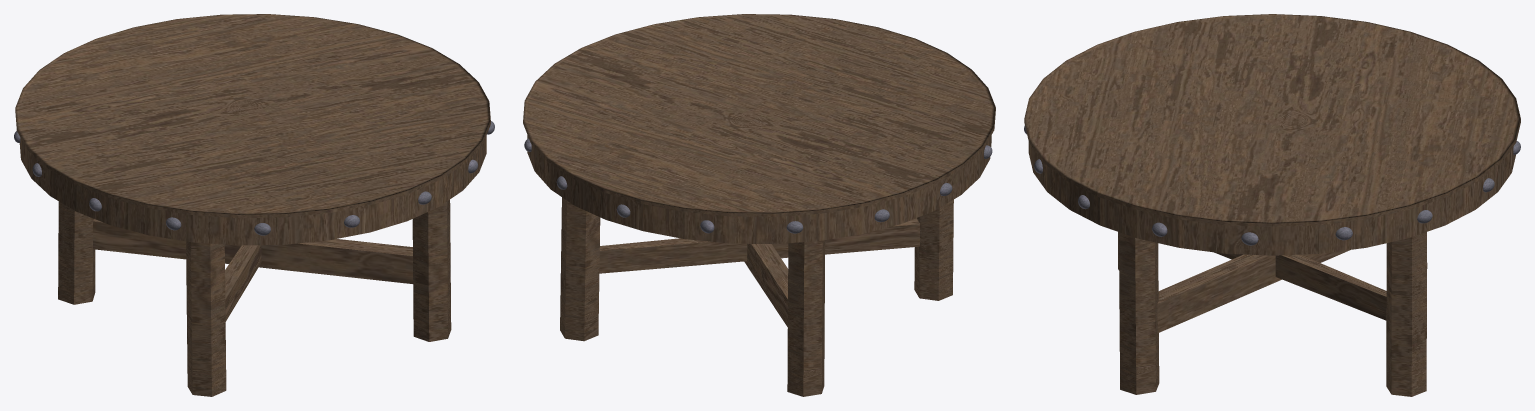
Rendered from TableRound.fbx.
3 renders of one model, left to right at view 1: azimuth 30°, elevation 25°; view 2: azimuth 150°, elevation 25°; view 3: azimuth 270°, elevation 25°, orthographic. The views are drawn at different scales.
Parts seen in each view (by area): view 1: Cylinder; view 2: Cylinder; view 3: Cylinder.
Boxes of the visible parts, <box> form: Cylinder: <box>14,14,494,396</box>; Cylinder: <box>523,14,995,396</box>; Cylinder: <box>1024,14,1520,396</box>.
Bounding box in the file's own units: 195 × 91.11 × 195.
